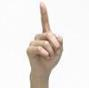up: (28, 2, 63, 75)
